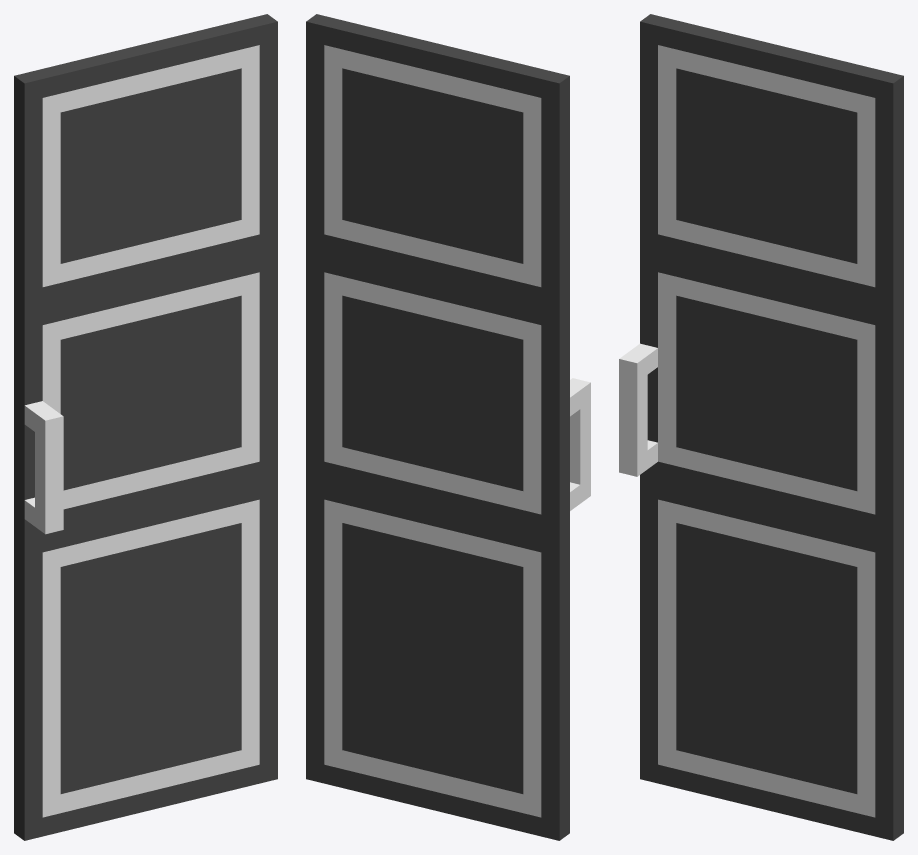
Rendered from cupboardDoor2.obj.
3 renders of one model, left to right at view 1: azimuth 30°, elevation 25°; view 2: azimuth 150°, elevation 25°; view 3: azimuth 330°, elevation 25°, orthographic.
Size of the model in its own units: 1.4 by 4 by 0.3.
